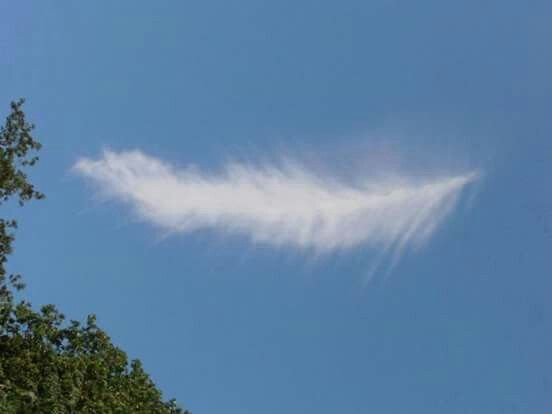Cirrus: (62, 110, 503, 286)
